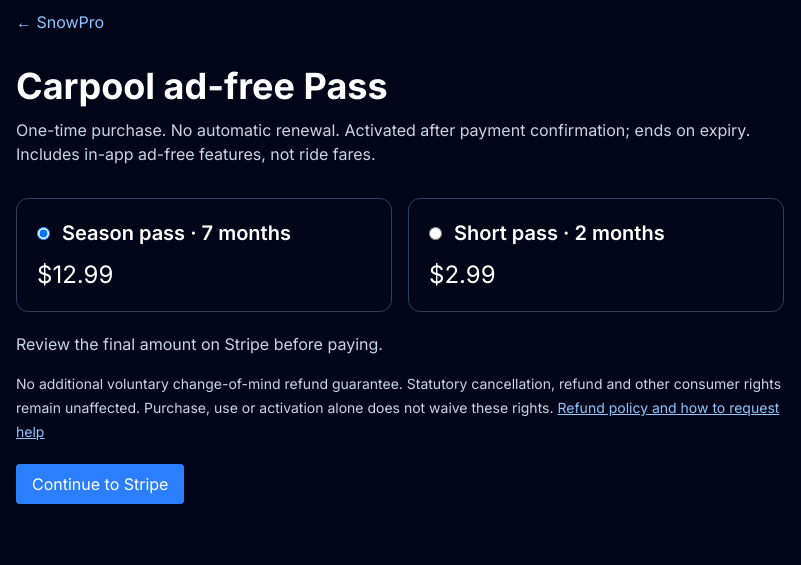
Test: Dynamic Pass purchase › locks duplicate checkout and rejects unsafe redirect
Expected: the text "Season pass · 7 months" is shown, left=62, top=221, right=291, bottom=245
Click the button "Continue to Stripe" at (100, 484), box left=16, top=464, right=184, bottom=504
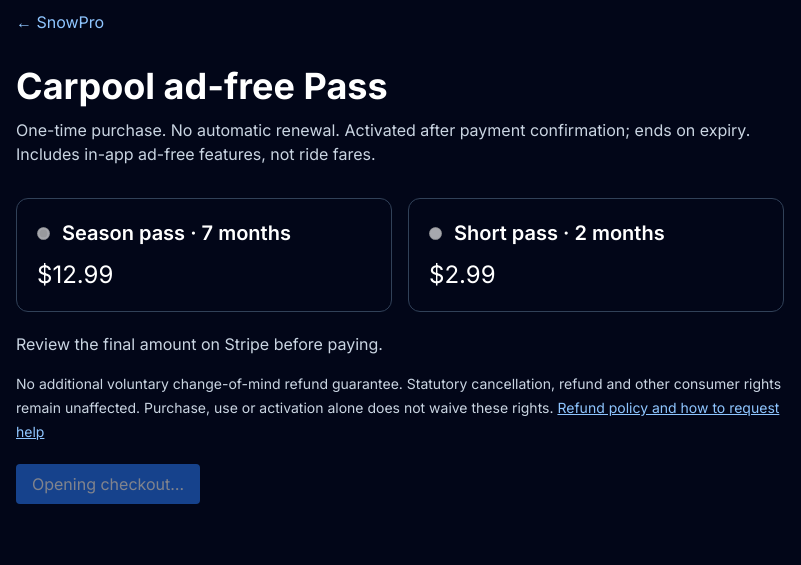
Click the button named "Continue to Stripe" at (108, 484), box left=16, top=464, right=200, bottom=504
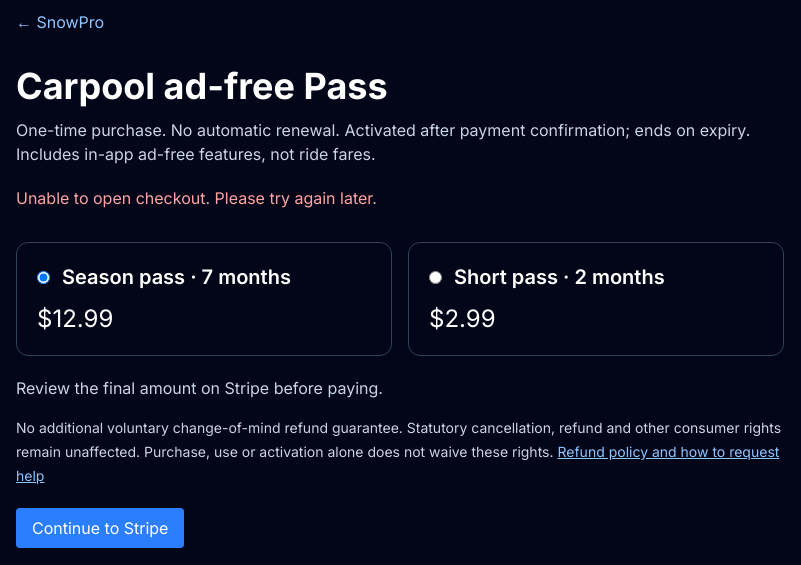
Result: the message "Unable to open checkout. Please try again later." is shown at left=16, top=188, right=377, bottom=208
Result: the button "Continue to Stripe" is enabled at left=16, top=508, right=184, bottom=548
